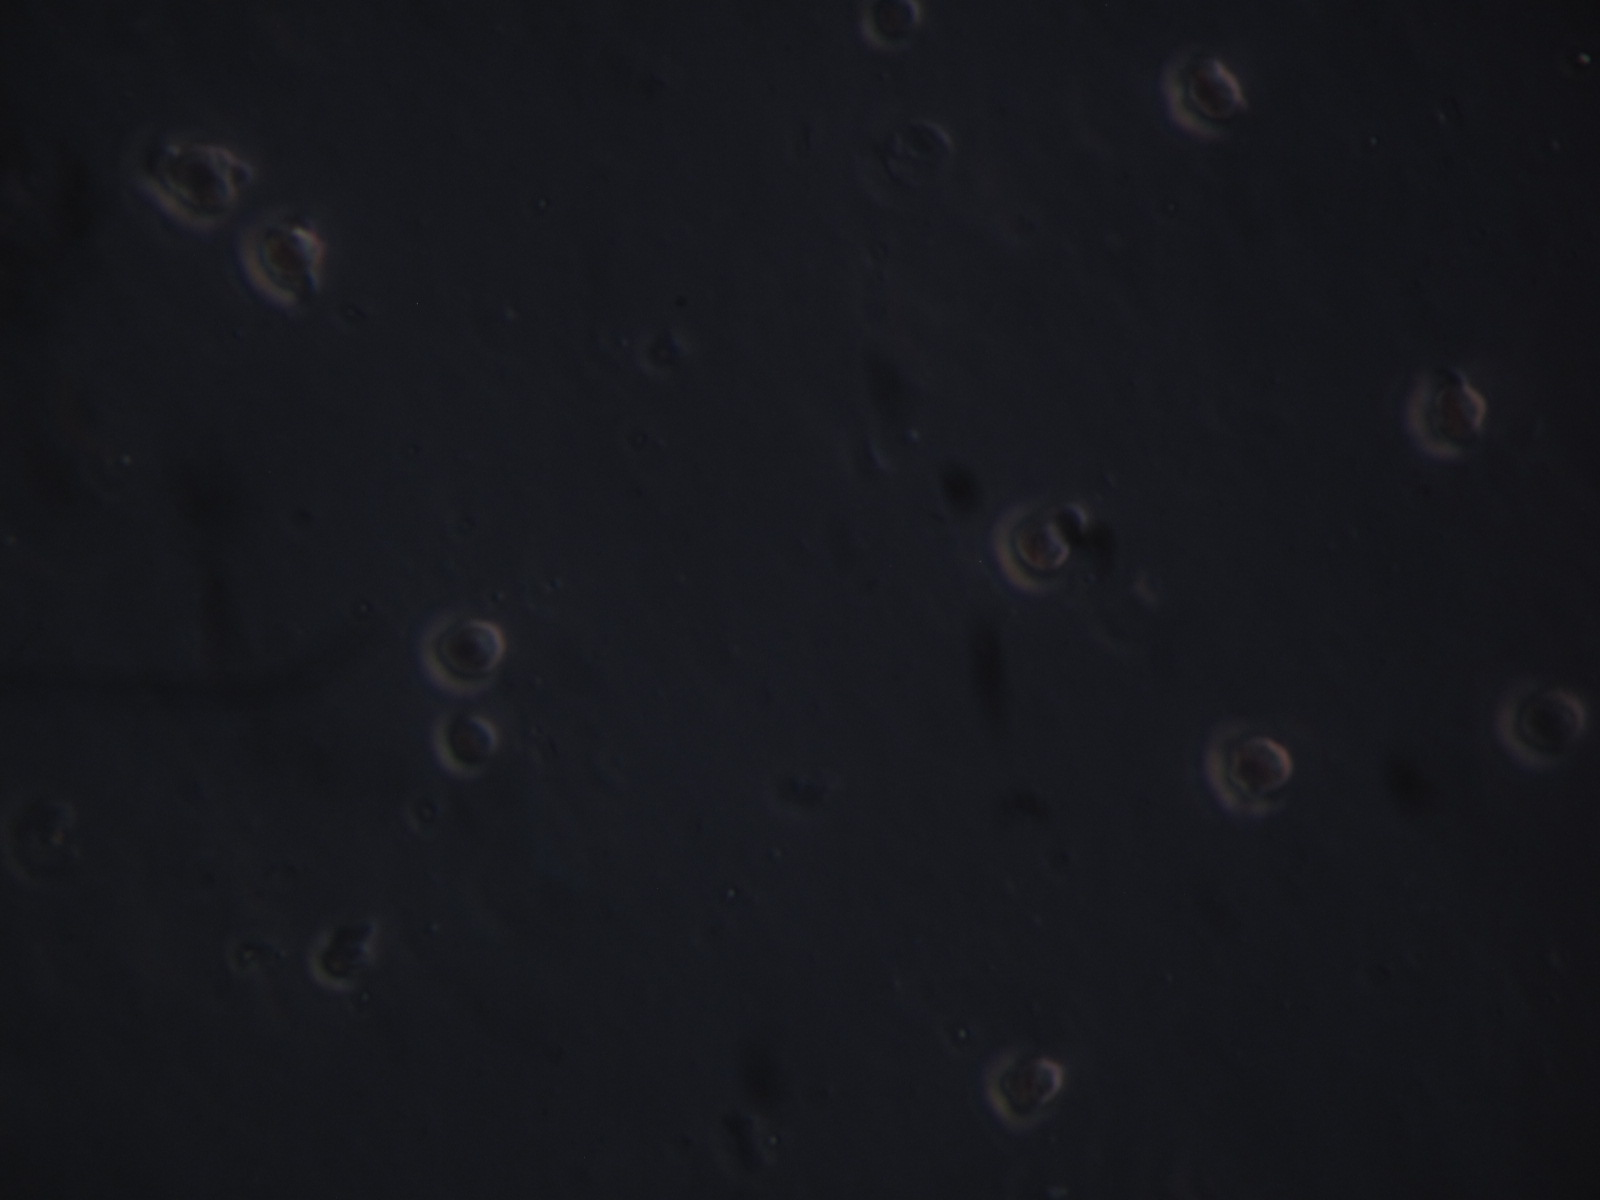hemo: (147, 137, 238, 236), (1495, 676, 1585, 774), (988, 495, 1076, 592), (420, 608, 509, 698), (1209, 724, 1290, 814), (1162, 50, 1243, 136), (1410, 371, 1487, 458), (985, 1047, 1067, 1124), (249, 217, 324, 300), (433, 705, 500, 776), (862, 1, 925, 50)
